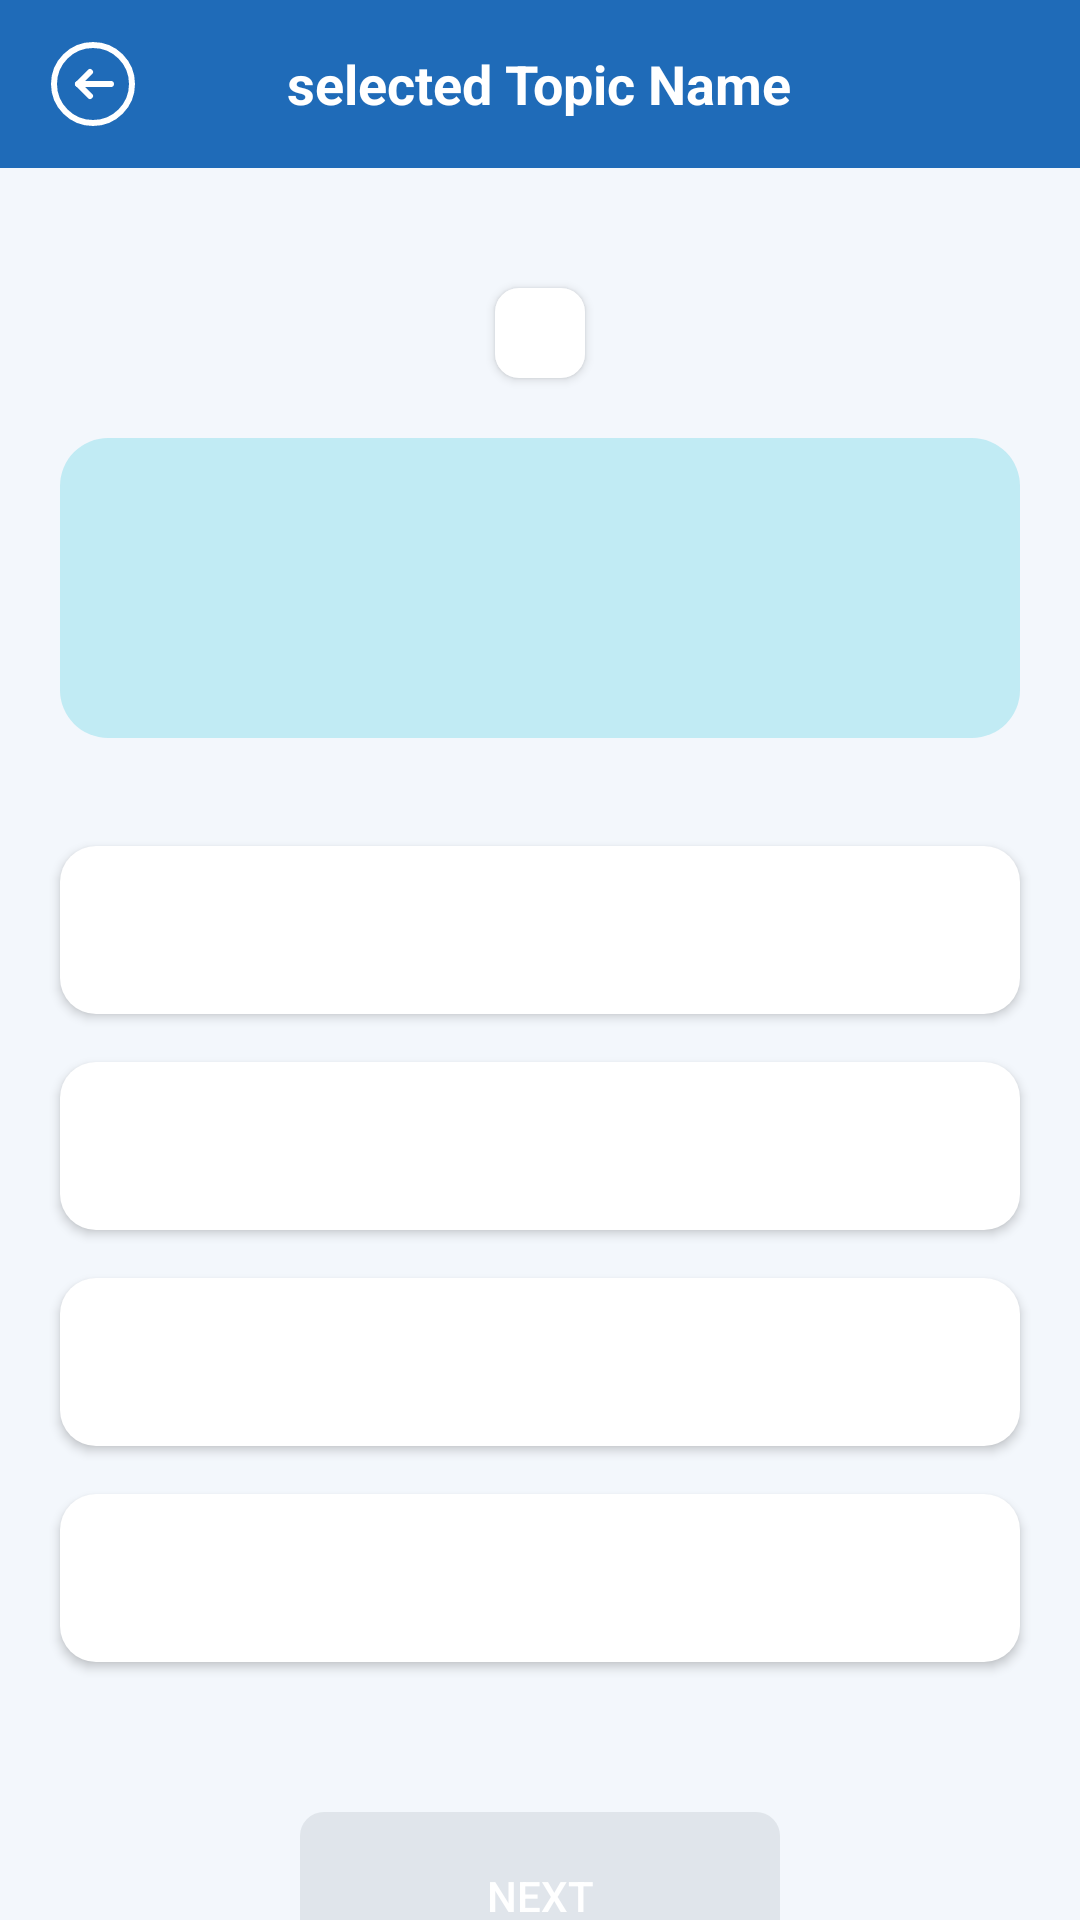

Where to tap for icons on this 1080*1920 app screen, as point (x, y):
back: point (93, 84)
